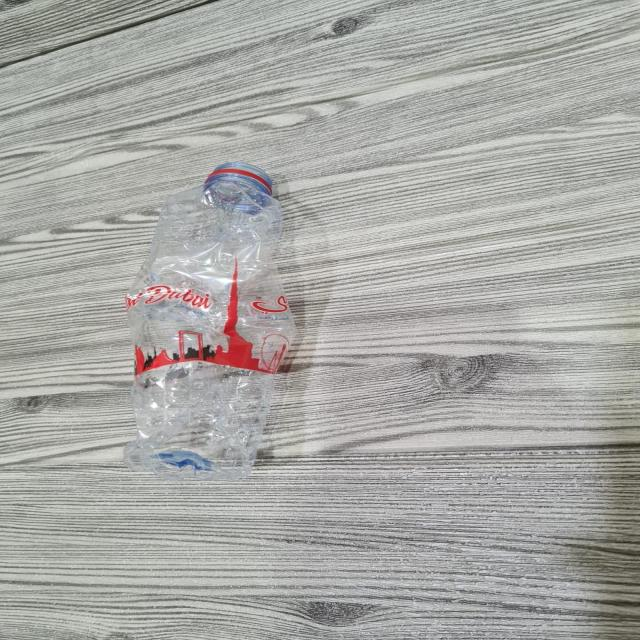bottle: (118, 152, 310, 472)
